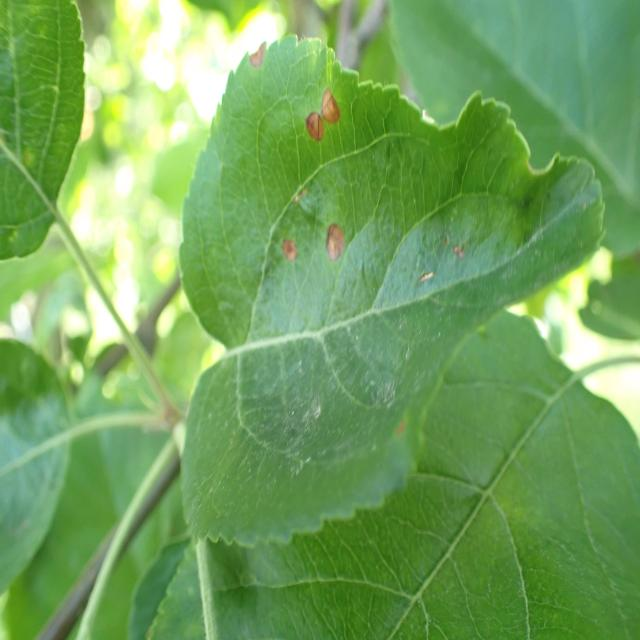frog-eye-leaf-spot: (178, 32, 608, 548)
